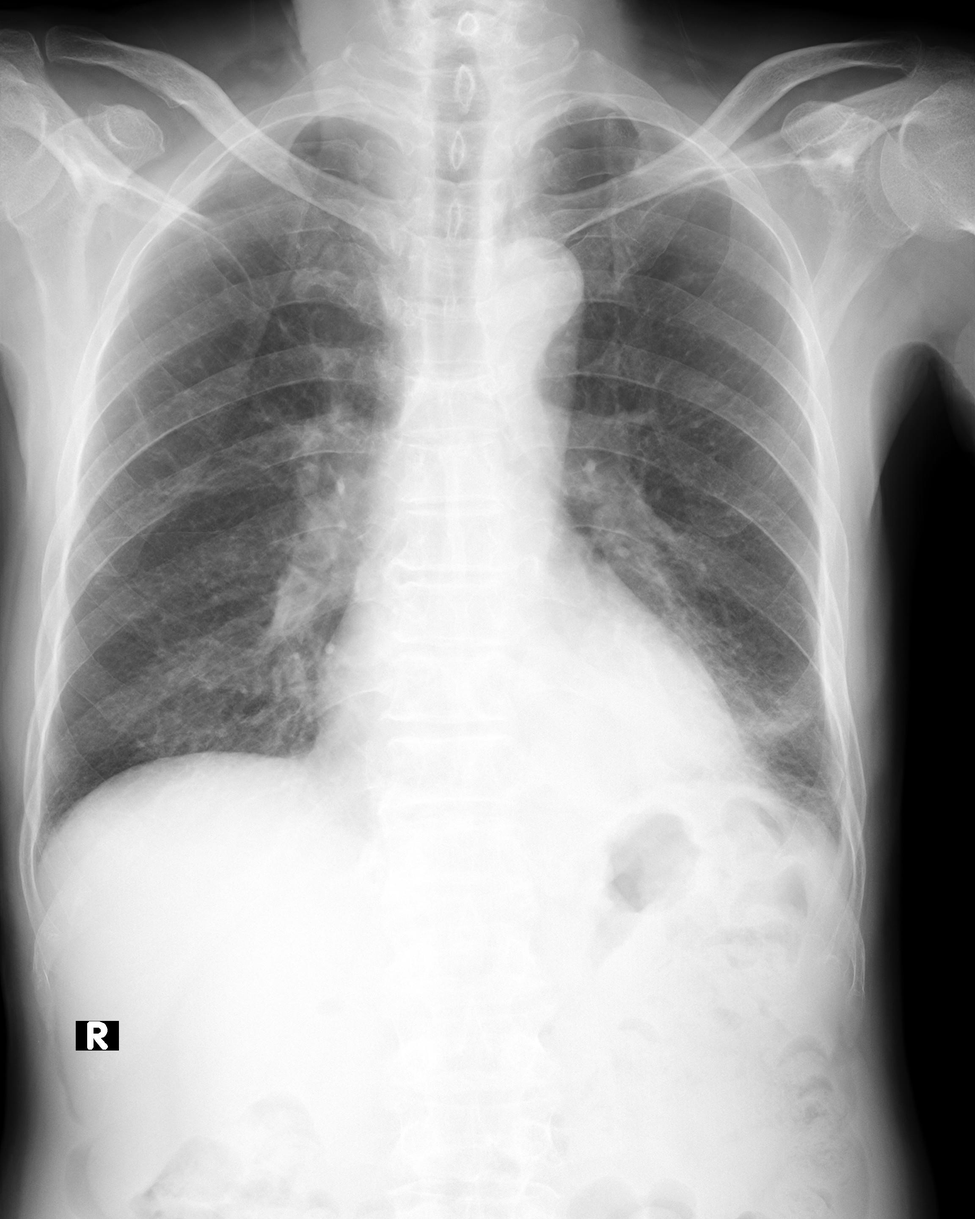Aortic enlargement: (469, 235, 585, 336)
Cardiomegaly: (301, 638, 756, 800)
Pulmonary fibrosis: (741, 691, 818, 740), (793, 772, 839, 804)
